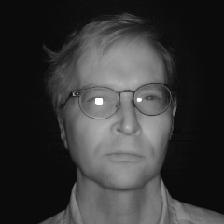normal: (43, 10, 192, 194)
